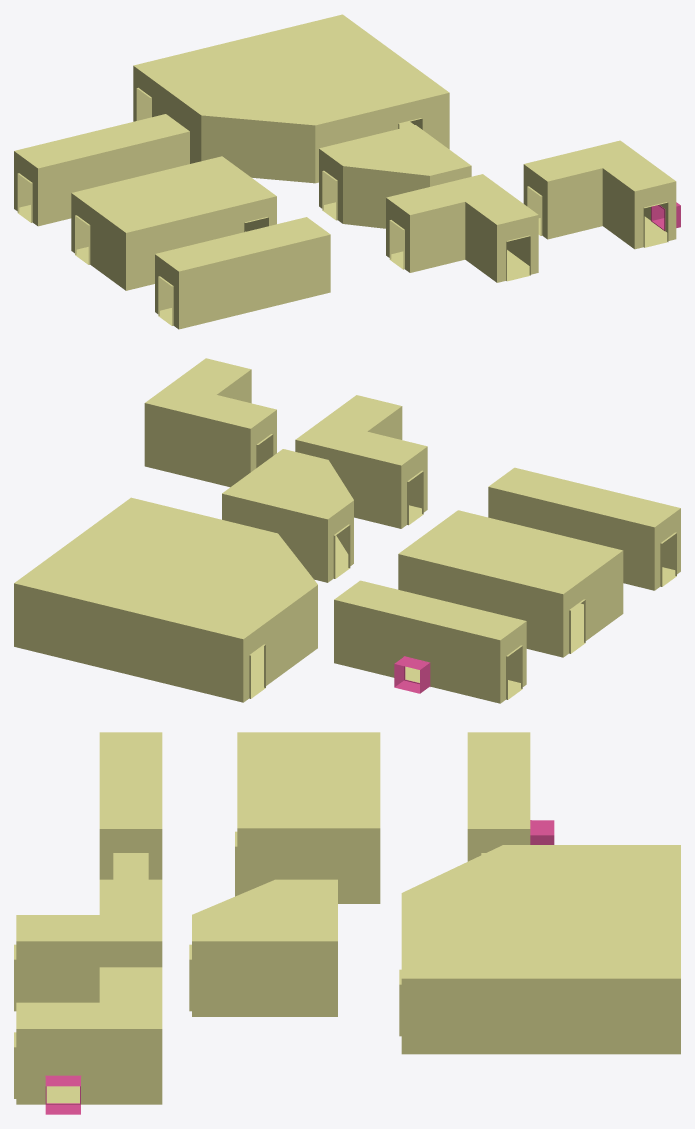
Rendered from TLRKamers.fbx.
3 views of the same model, one above another, from view 1: azimuth 30°, elevation 25°; view 2: azimuth 150°, elevation 25°; view 3: azimuth 270°, elevation 25° (orthographic). The views are drawn at different scales.
Visible parts, largest first — view 1: Room1Kamers.001, Room1Kamers, GangKamers, Bocht1Kamers, BochtVentKamers, VentGangKamers, Bocht2Kamers; view 2: Room1Kamers.001, Room1Kamers, VentGangKamers, BochtVentKamers, GangKamers, Bocht2Kamers, Bocht1Kamers; view 3: Room1Kamers.001, Room1Kamers, Bocht2Kamers, BochtVentKamers, Bocht1Kamers, GangKamers, VentGangKamers.
Boxes of the visible parts, box(x1,y1,x2,y2) form: Room1Kamers.001: box(133, 14, 449, 183); Room1Kamers: box(71, 156, 276, 290); GangKamers: box(155, 217, 330, 329); Bocht1Kamers: box(386, 174, 538, 282); BochtVentKamers: box(523, 140, 680, 249); VentGangKamers: box(14, 114, 189, 226); Bocht2Kamers: box(319, 125, 471, 228); Room1Kamers.001: box(14, 497, 317, 702); Room1Kamers: box(398, 510, 623, 657); VentGangKamers: box(334, 580, 526, 703); BochtVentKamers: box(144, 358, 276, 487); GangKamers: box(488, 467, 680, 590); Bocht2Kamers: box(222, 449, 353, 582); Bocht1Kamers: box(295, 395, 427, 528); Room1Kamers.001: box(399, 845, 680, 1054); Room1Kamers: box(235, 732, 380, 903); Bocht2Kamers: box(189, 879, 337, 1016); BochtVentKamers: box(14, 967, 162, 1114); Bocht1Kamers: box(14, 879, 162, 1011); GangKamers: box(99, 732, 162, 879); VentGangKamers: box(467, 732, 554, 861).
Size of the model in its own units: 2543 by 293 by 2328.
